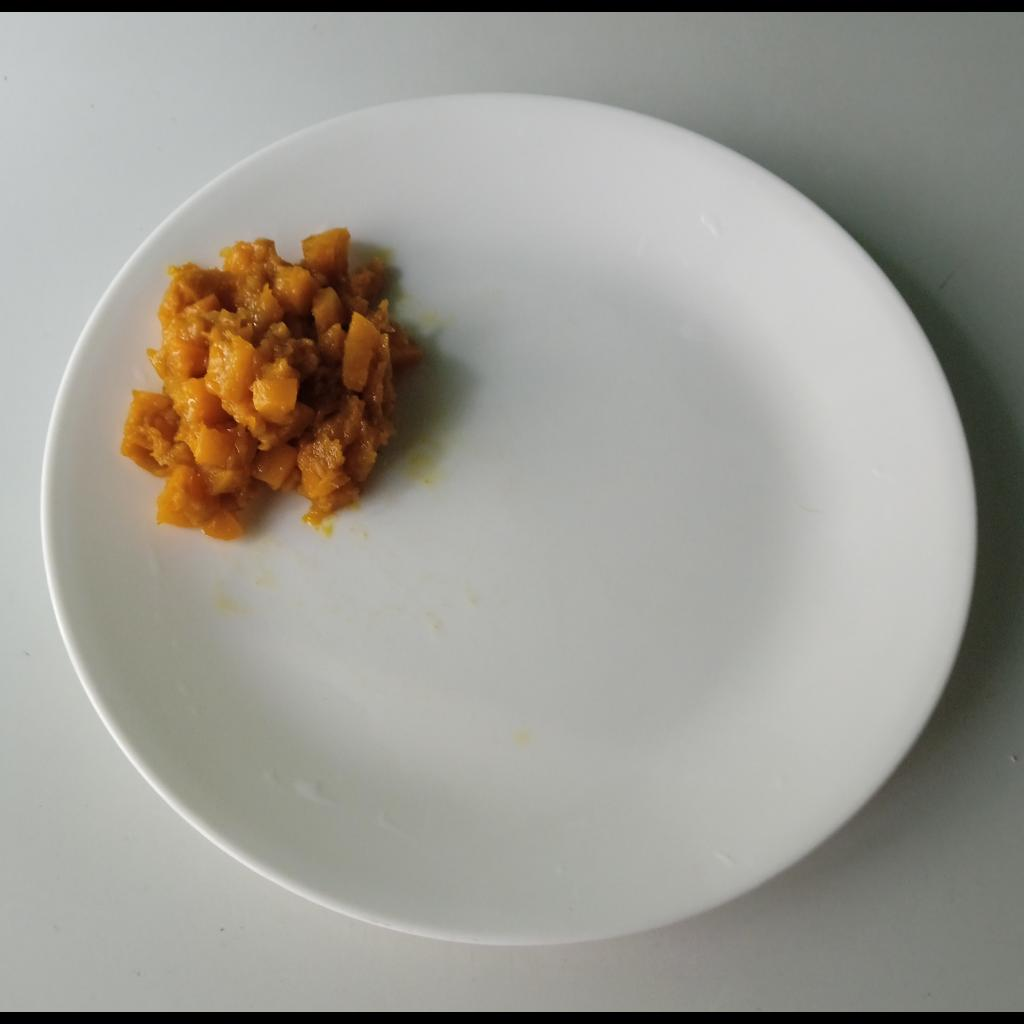kumra-vaji: (113, 231, 424, 541)
